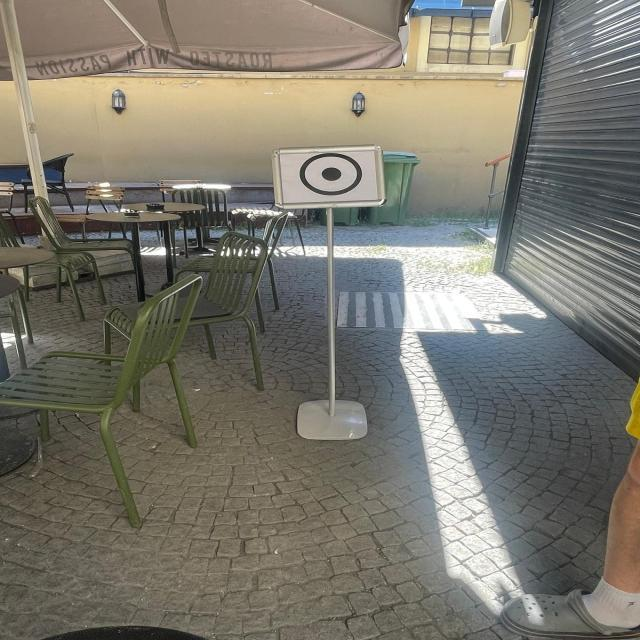Target: (257, 136, 406, 216)
inner: (312, 162, 350, 188)
